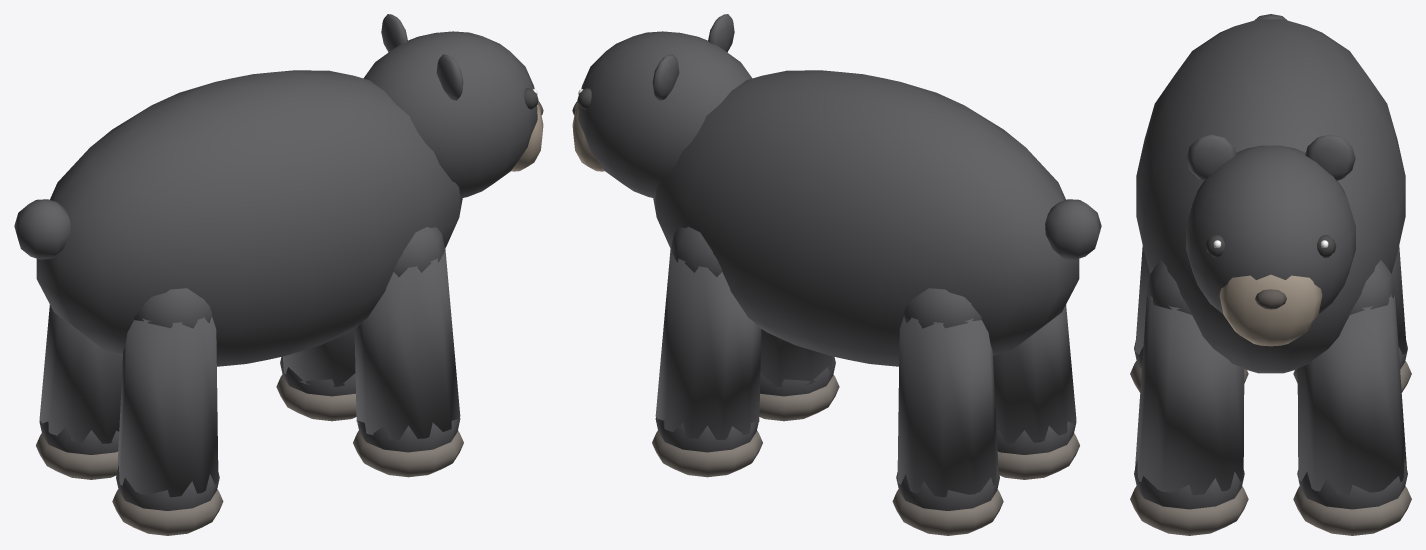
File: formosan-black-bear.glb
3 views of the same model, side by side, from view 1: azimuth 30°, elevation 25°; view 2: azimuth 150°, elevation 25°; view 3: azimuth 270°, elevation 25° (orthographic). The views are drawn at different scales.
Parts seen in each view (by area): view 1: e, e.017, e.026; view 2: e, e.017, e.026; view 3: e, e.017.
Part boxes in pixels (x1,y1,x2,y2): e: (36, 70, 463, 535); e.017: (363, 14, 543, 198); e.026: (14, 199, 70, 259); e: (652, 70, 1079, 535); e.017: (572, 14, 752, 198); e.026: (1045, 199, 1101, 259); e: (1130, 19, 1411, 535); e.017: (1186, 134, 1355, 346).
Bounding box in the file's own units: 1.56 × 1.12 × 0.684.
